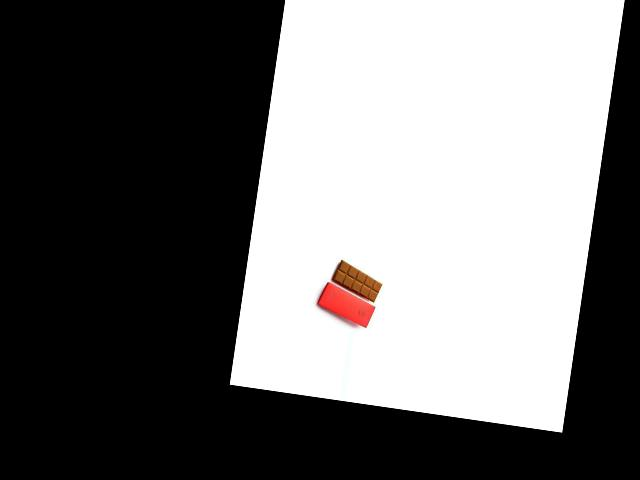chocolate: (326, 258, 385, 305)
